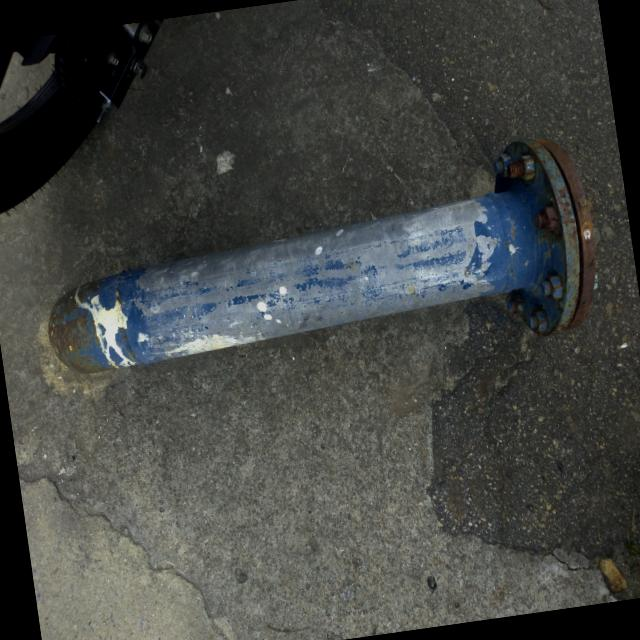gas: (52, 190, 534, 372)
